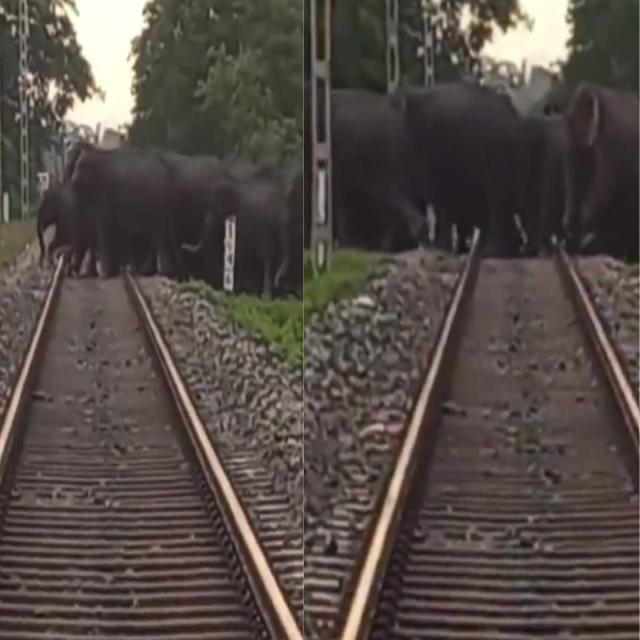Elephant: (396, 75, 536, 271), (65, 127, 185, 290), (199, 167, 296, 301), (38, 143, 101, 287)
